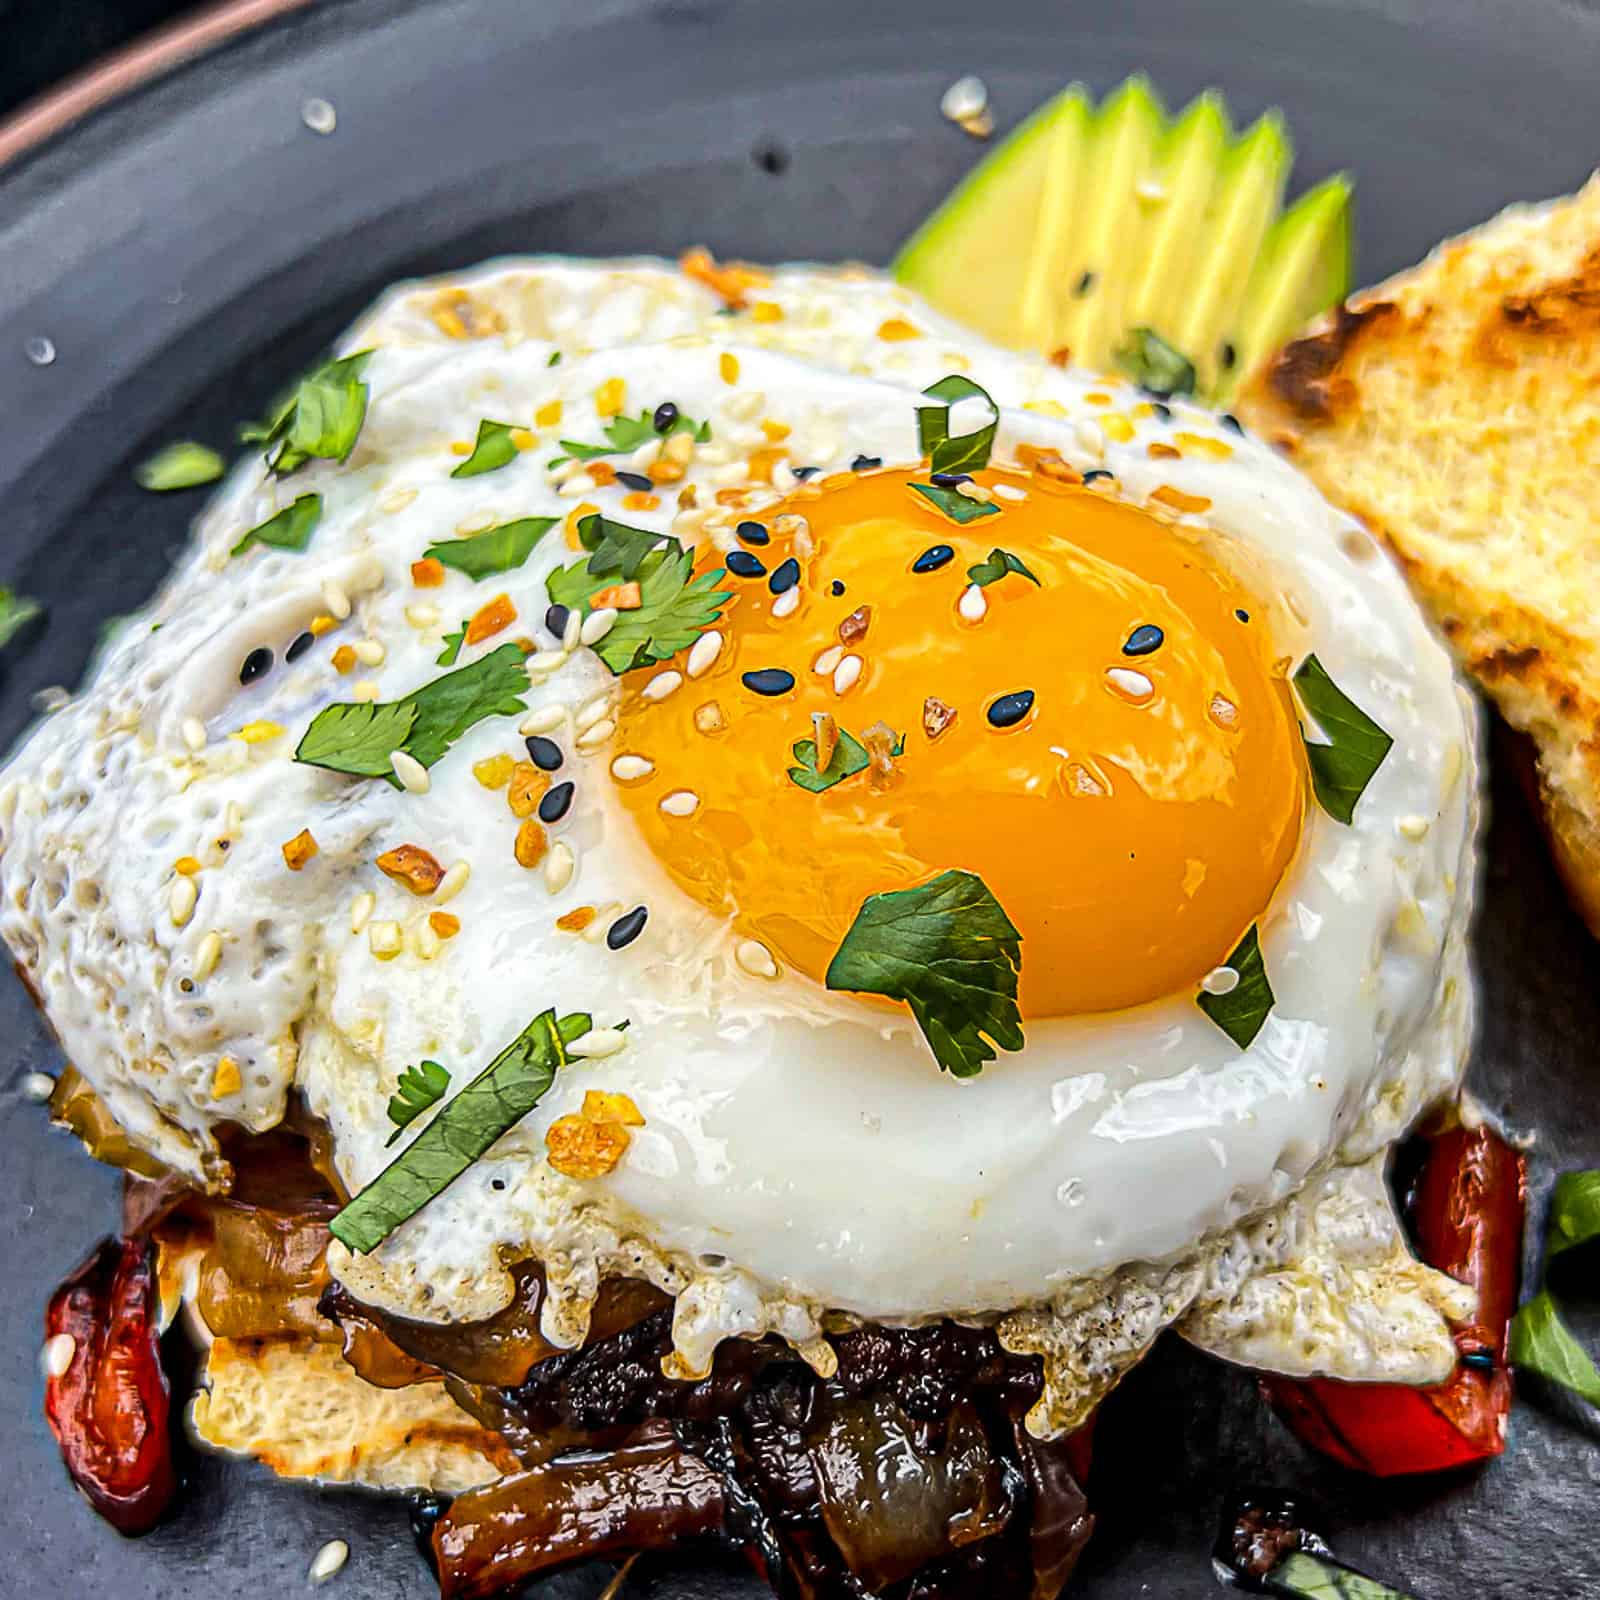Sunny Side Up: (42, 245, 1483, 1319)
